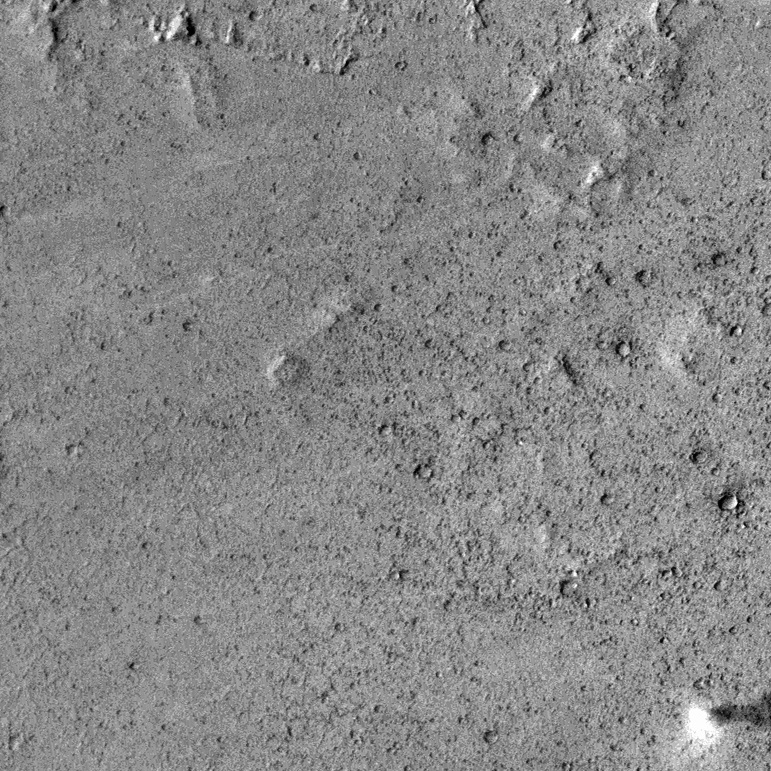dust_devil: (683, 692, 771, 748)
